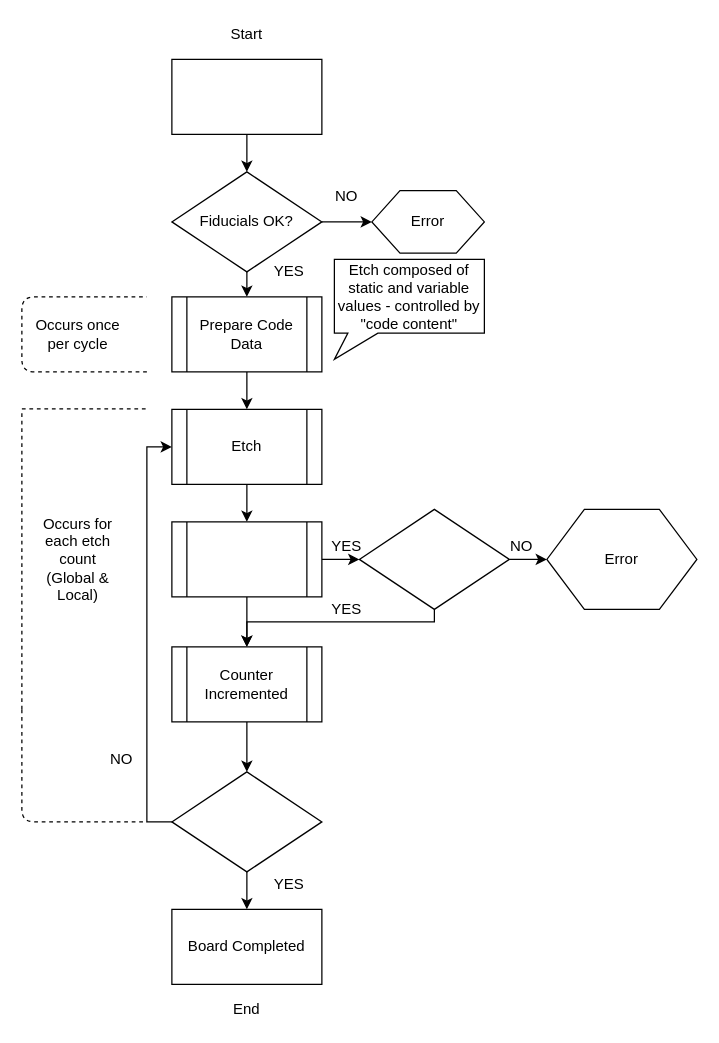
The diagram is 719 pixels wide and 1043 high, and some of its shapes have lost their labels. Here are the shapes that lost their labels. From the top down, the centre of each, then its label:
[246,96]: Board Received
[246,559]: Scan Required?
[433,558]: Scan OK?
[246,821]: Count Reached?
